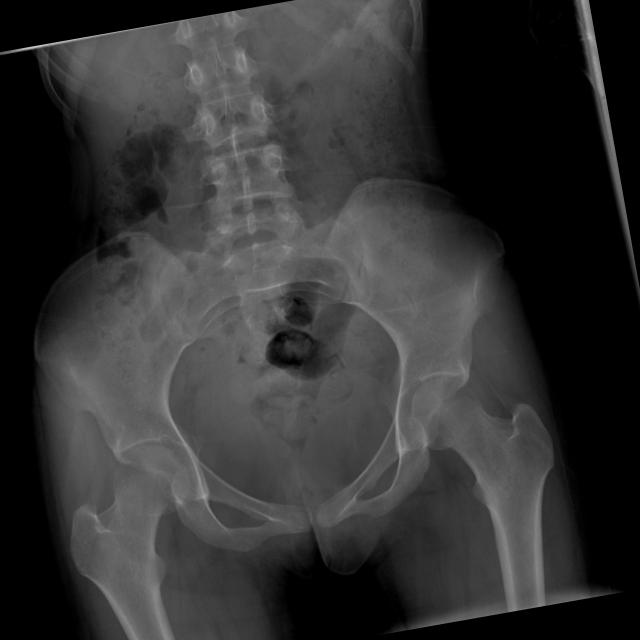normal-left: (408, 377, 554, 553)
normal-right: (69, 444, 190, 640)
